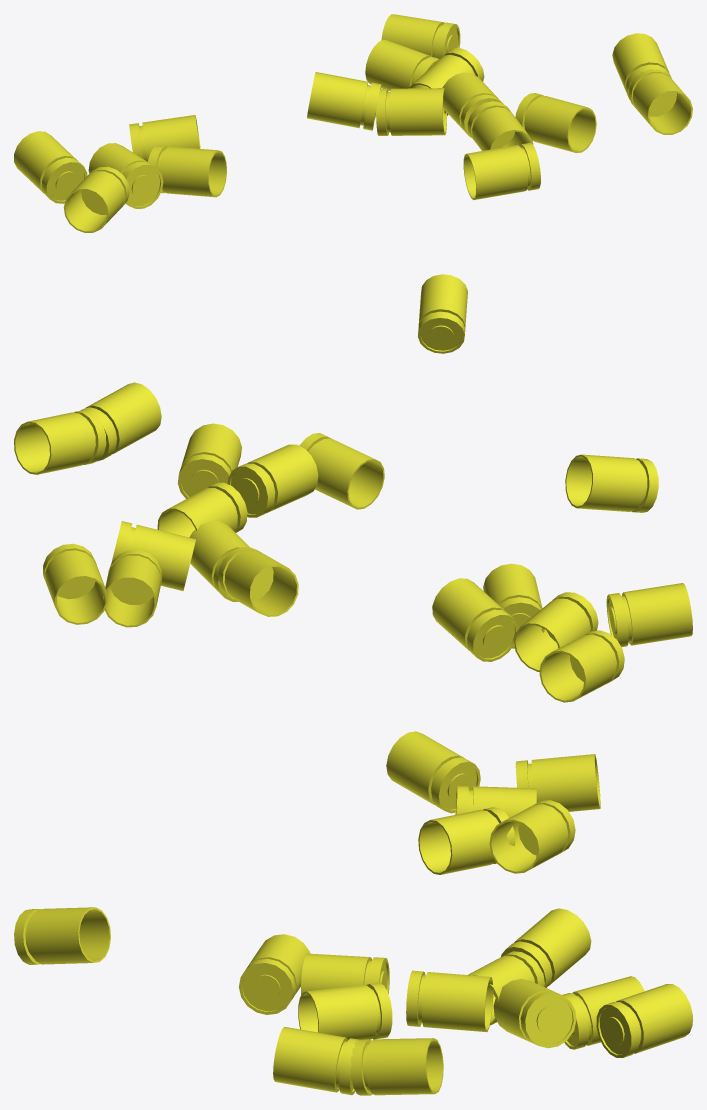
The model's file is CasingPile.fbx.
The picture shows the model from 3 angles, top to bottom: view 1: azimuth 30°, elevation 25°; view 2: azimuth 150°, elevation 25°; view 3: azimuth 270°, elevation 25°; orthographic projection. The views are drawn at different scales.
Parts seen in each view (by area): view 1: Casing; view 2: Casing; view 3: Casing.
Boxes of the visible parts, box(x1,y1,x2,y2) form: Casing: box(14, 14, 692, 353); Casing: box(14, 382, 692, 702); Casing: box(14, 731, 692, 1095).
Size of the model in its own units: 179 by 31.93 by 150.
